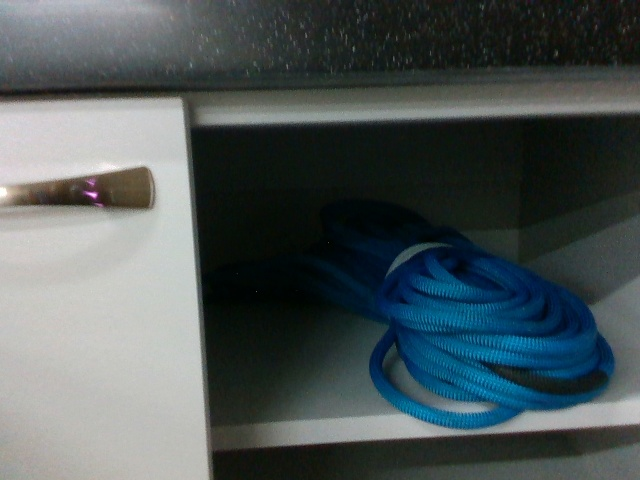rope: (300, 195, 619, 430)
